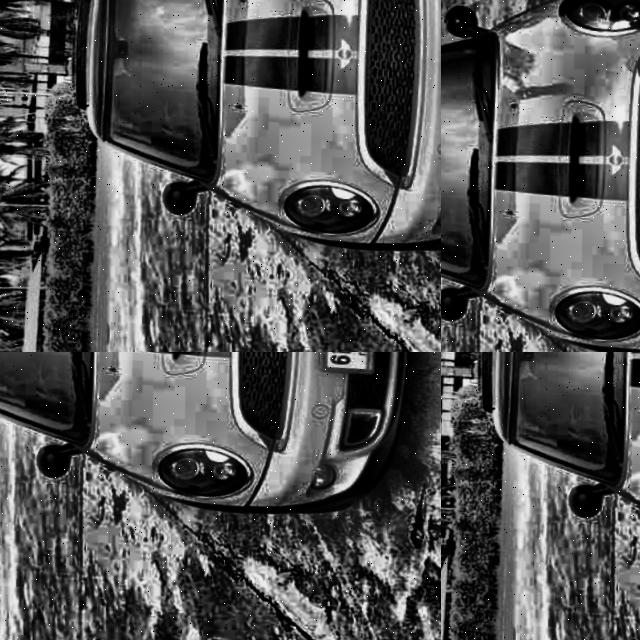license-plate: (441, 0, 527, 352), (0, 176, 81, 352)
